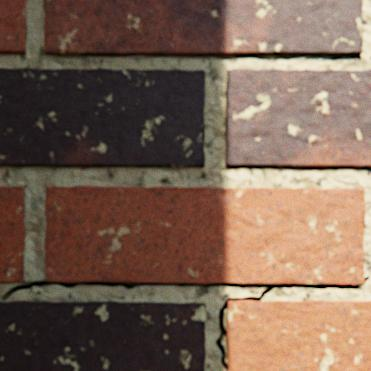brick: (45, 186, 364, 284), (0, 69, 204, 168), (44, 0, 362, 57), (0, 301, 205, 370), (225, 70, 370, 167), (226, 300, 370, 370), (0, 187, 26, 282), (0, 0, 28, 55)
crack: (1, 276, 369, 370)
